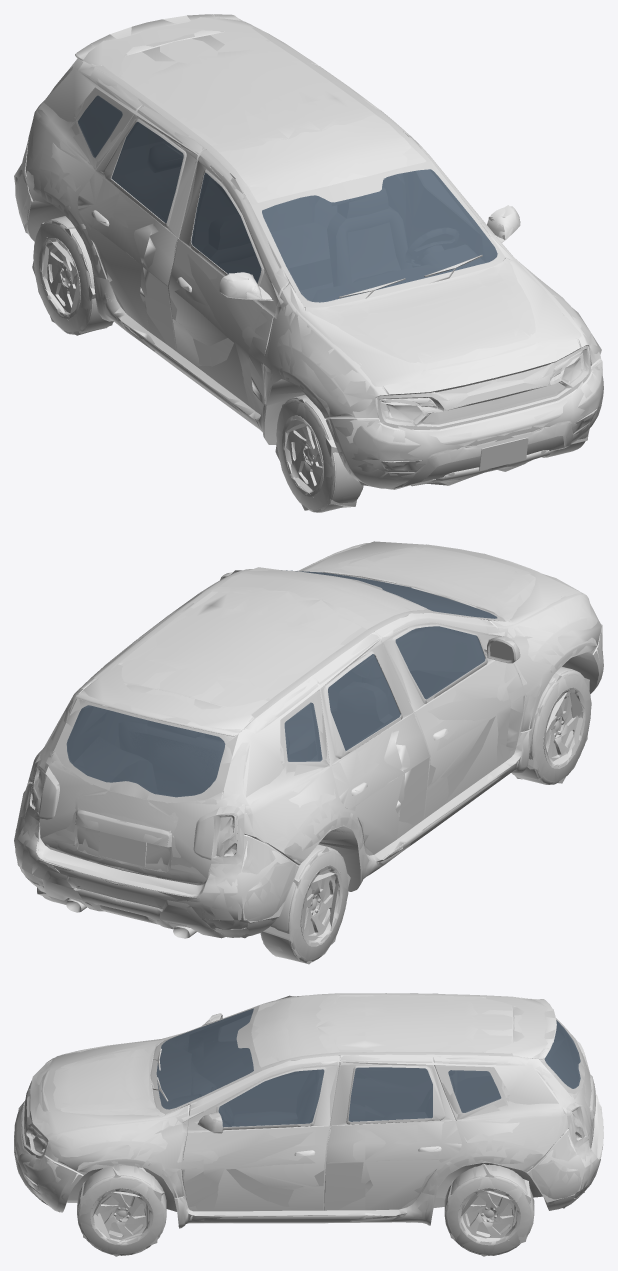
File: suv.fbx
3 renders of one model, top to bottom at view 1: azimuth 30°, elevation 25°; view 2: azimuth 150°, elevation 25°; view 3: azimuth 270°, elevation 25°, orthographic. The views are drawn at different scales.
Visible parts, largest first — view 1: Body, LOD1_Body, LOD3_Body, LOD2_Body, Door_FR, LOD1_Door_FR, LOD3_Door_FR, LOD2_Door_FR, Wheel_FR, Wheel_RR, LOD1_Wheel_FR, LOD1_Wheel_RR (+7 smaller); view 2: Body, LOD1_Body, LOD3_Body, LOD2_Body, Door_FR, LOD3_Door_FR, LOD1_Door_FR, LOD2_Door_FR, Wheel_RR, Wheel_FR, LOD1_Wheel_RR, LOD1_Wheel_FR (+4 smaller); view 3: Body, LOD1_Body, LOD3_Body, LOD2_Body, Door_FL, LOD3_Door_FL, LOD1_Door_FL, LOD2_Door_FL, Wheel_FL, Wheel_RL, LOD1_Wheel_RL, LOD1_Wheel_FL (+4 smaller).
Part boxes in pixels (x1,y1,x2,y2): Body: (15, 14, 603, 489); LOD1_Body: (16, 14, 602, 485); LOD3_Body: (14, 17, 602, 489); LOD2_Body: (15, 18, 602, 488); Door_FR: (139, 145, 304, 410); LOD1_Door_FR: (140, 158, 304, 409); LOD3_Door_FR: (147, 167, 281, 405); LOD2_Door_FR: (142, 173, 301, 394); Wheel_FR: (277, 394, 363, 512); Wheel_RR: (33, 216, 113, 333); LOD1_Wheel_FR: (276, 397, 363, 512); LOD1_Wheel_RR: (33, 220, 112, 334); Body: (16, 543, 603, 938); LOD1_Body: (17, 543, 603, 938); LOD3_Body: (14, 541, 602, 938); LOD2_Body: (15, 571, 603, 936); Door_FR: (360, 597, 520, 822); LOD3_Door_FR: (394, 613, 510, 838); LOD1_Door_FR: (360, 597, 519, 825); LOD2_Door_FR: (394, 606, 510, 809); Wheel_RR: (260, 844, 347, 962); Wheel_FR: (513, 667, 590, 784); LOD1_Wheel_RR: (263, 848, 347, 962); LOD1_Wheel_FR: (531, 670, 590, 784); Body: (14, 993, 603, 1228); LOD1_Body: (14, 993, 603, 1223); LOD3_Body: (16, 993, 603, 1212); LOD2_Body: (14, 995, 597, 1211); Door_FL: (201, 1059, 390, 1211); LOD3_Door_FL: (203, 1060, 365, 1211); LOD1_Door_FL: (201, 1059, 390, 1211); LOD2_Door_FL: (200, 1065, 365, 1201); Wheel_FL: (77, 1165, 166, 1255); Wheel_RL: (444, 1164, 534, 1255); LOD1_Wheel_RL: (445, 1175, 534, 1255); LOD1_Wheel_FL: (78, 1175, 166, 1255).
Size of the model in its own units: 1.91 by 1.55 by 4.35.
